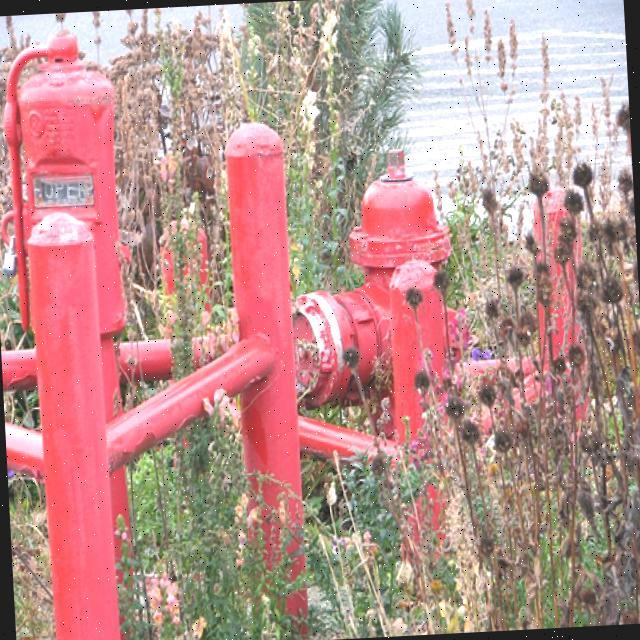fire_hydrant: (0, 27, 131, 424), (290, 277, 480, 421), (338, 147, 448, 290)
